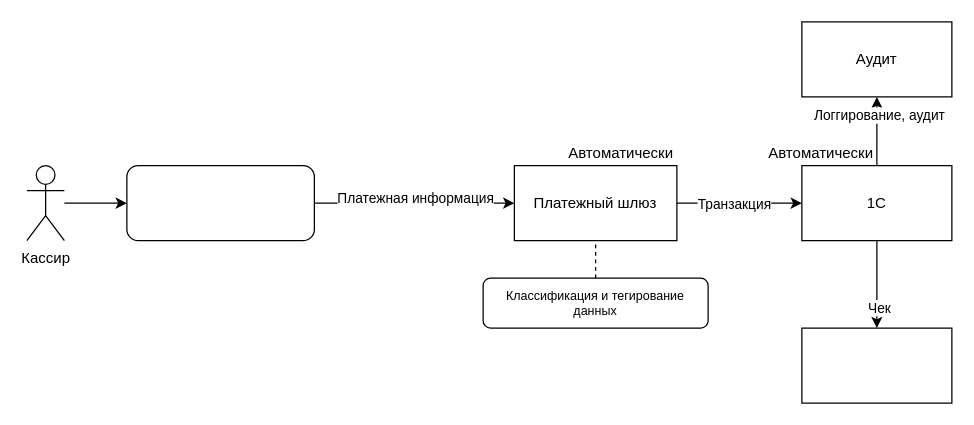
The diagram is 974 pixels wide and 425 high, and some of its shapes have lost their labels. The shapes that lost their labels are listed below. From the top down, each one's box as (x1, y1, x2, y2) in pixels, then its label:
(126, 164, 314, 241): Передача данных платежа
(801, 327, 952, 403): ККМ
